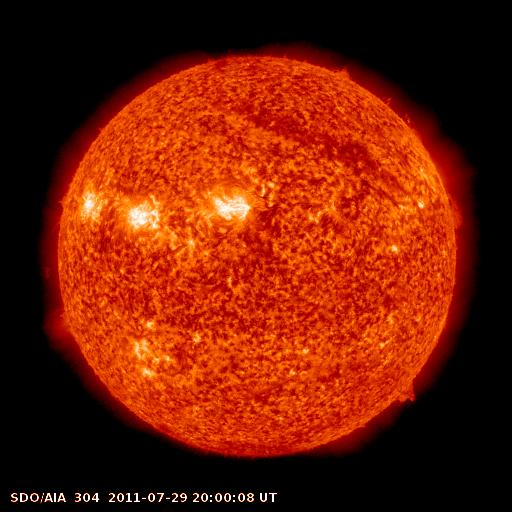prominence: (386, 370, 426, 418), (441, 184, 469, 236)
